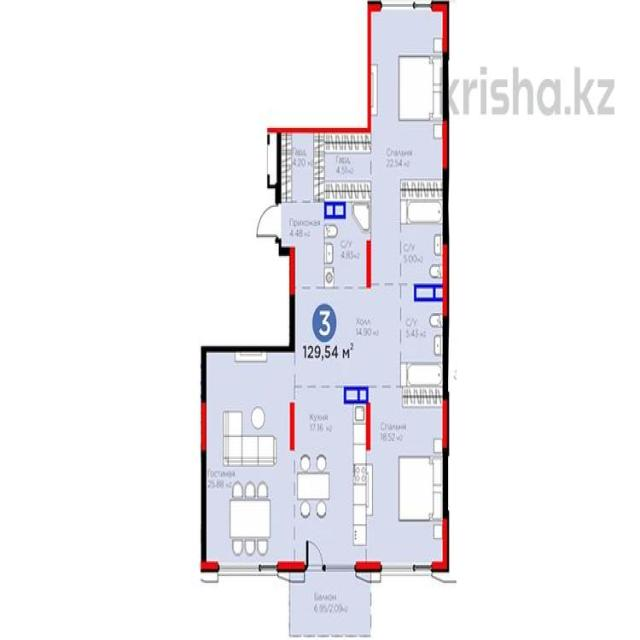bathroom: (399, 179, 446, 285), (400, 282, 447, 388), (324, 200, 371, 286)
hallway: (278, 199, 402, 388)
kitchen: (293, 384, 367, 571)
living_room: (369, 4, 446, 285), (202, 346, 293, 571), (368, 402, 447, 564)
other: (276, 132, 372, 202)
